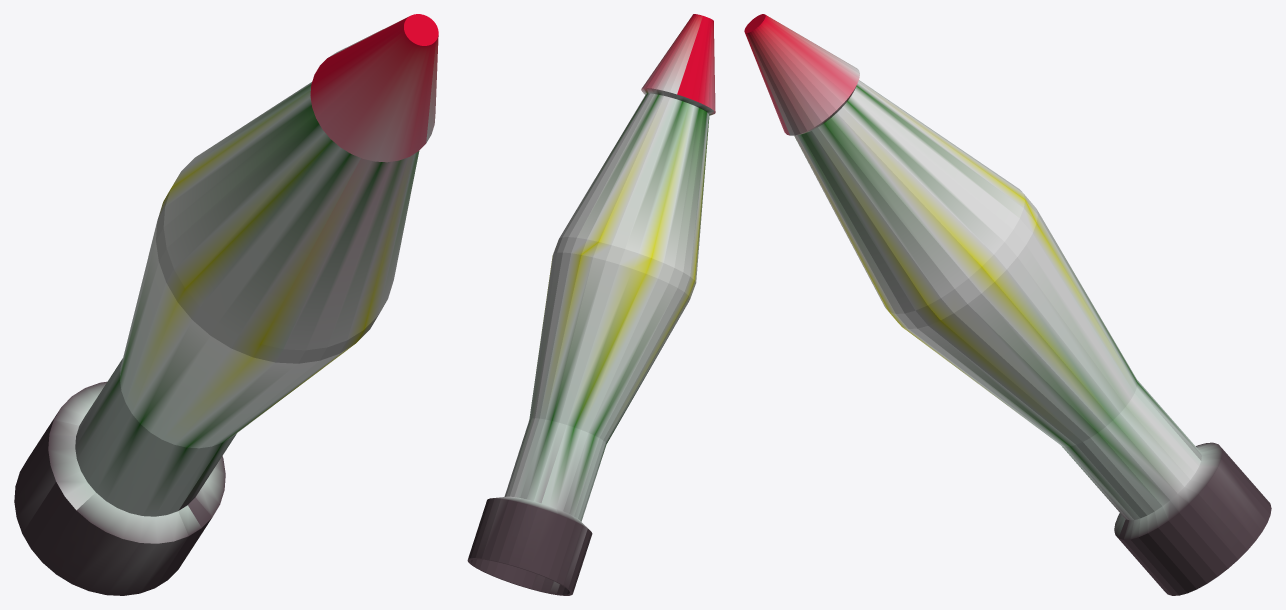
File: Mortar Rocket.fbx
3 renders of one model, left to right at view 1: azimuth 30°, elevation 25°; view 2: azimuth 150°, elevation 25°; view 3: azimuth 270°, elevation 25°, orthographic. The views are drawn at different scales.
Visible parts, largest first — view 1: Mortar_bomb; view 2: Mortar_bomb; view 3: Mortar_bomb.
Part boxes in pixels (left/top/right/bottom): Mortar_bomb: left=14, top=14, right=438, bottom=595; Mortar_bomb: left=467, top=14, right=715, bottom=595; Mortar_bomb: left=744, top=14, right=1271, bottom=595.
Bounding box in the file's own units: 36.71 × 128 × 107.
